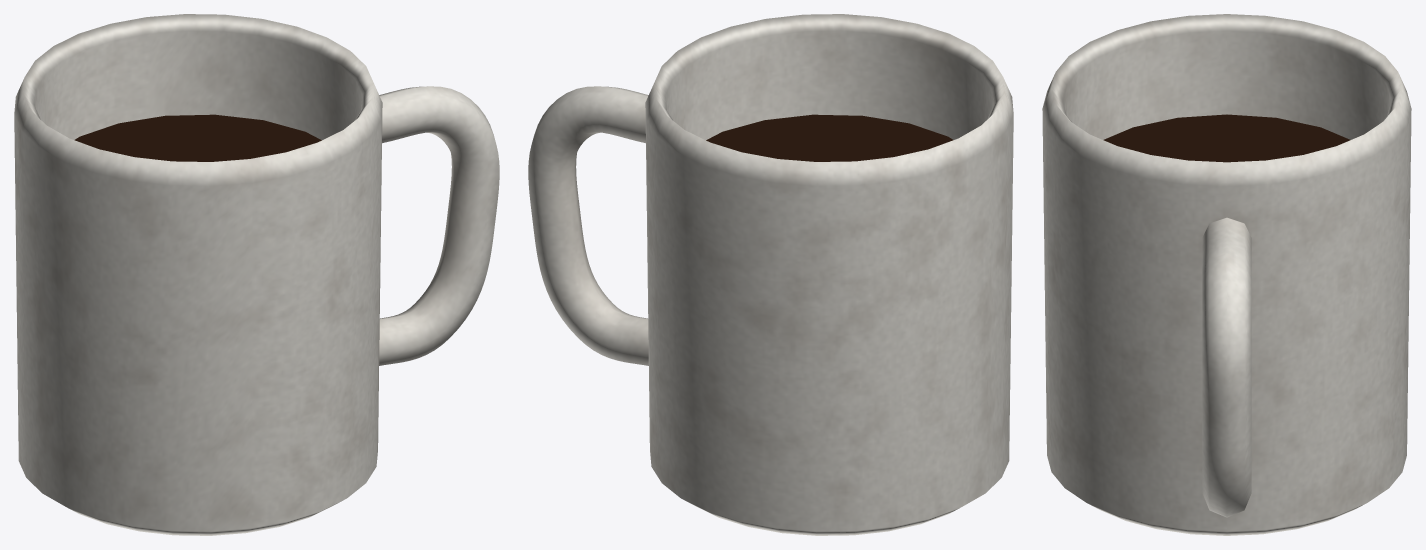
Rendered from dom_kubek.glb.
3 renders of one model, left to right at view 1: azimuth 30°, elevation 25°; view 2: azimuth 150°, elevation 25°; view 3: azimuth 270°, elevation 25°, orthographic.
Visible parts, largest first — view 1: TintKubek, Kawa; view 2: TintKubek, Kawa; view 3: TintKubek, Kawa.
Boxes of the visible parts, left/top/right/bottom form: TintKubek: left=14, top=14, right=499, bottom=535; Kawa: left=74, top=114, right=321, bottom=161; TintKubek: left=528, top=14, right=1013, bottom=535; Kawa: left=706, top=114, right=953, bottom=161; TintKubek: left=1042, top=14, right=1411, bottom=535; Kawa: left=1103, top=114, right=1350, bottom=162.
Size of the model in its own units: 0.1176 by 0.093 by 0.082.
2 materials, 1 textured.
